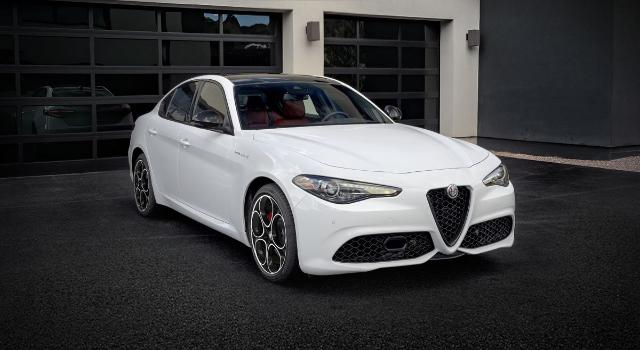alpha-romeo: (128, 73, 516, 282)
